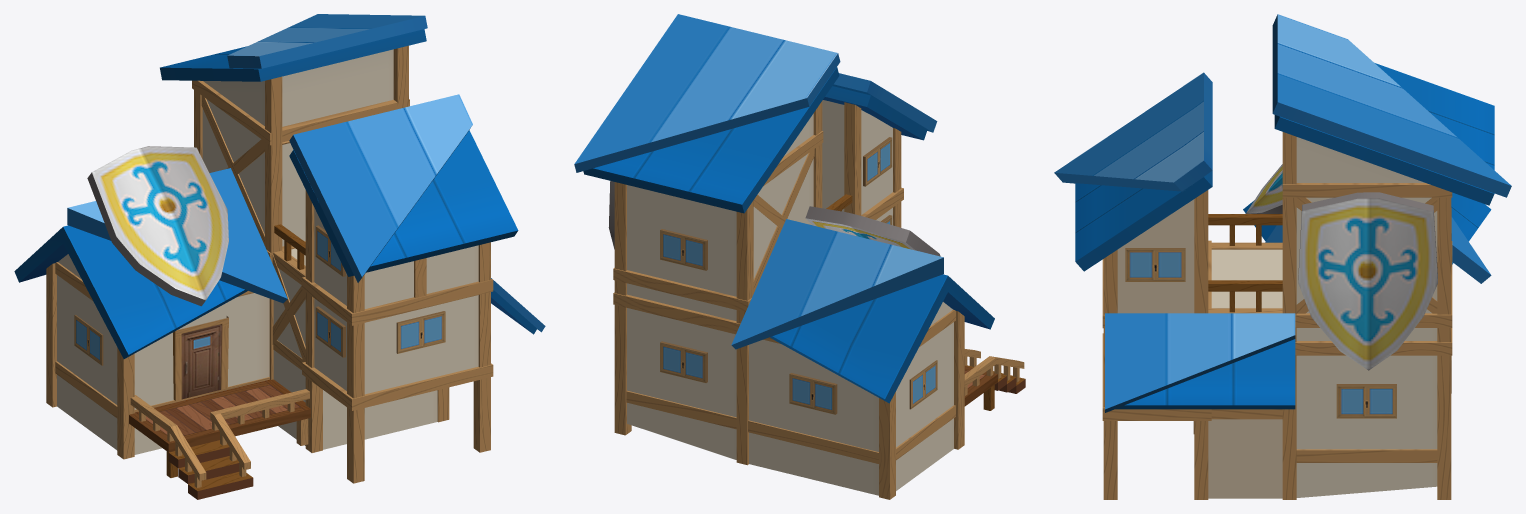
The model's file is building_Armor_lv5.FBX.
3 renders of one model, left to right at view 1: azimuth 30°, elevation 25°; view 2: azimuth 150°, elevation 25°; view 3: azimuth 270°, elevation 25°, orthographic. The views are drawn at different scales.
Visible parts, largest first — view 1: building_Armor_main_lv5, building_Armor_lv5; view 2: building_Armor_main_lv5, building_Armor_lv5; view 3: building_Armor_main_lv5, building_Armor_lv5.
Part boxes in pixels (bbox=[...]): building_Armor_main_lv5: bbox=[14, 14, 545, 454]; building_Armor_lv5: bbox=[46, 45, 493, 499]; building_Armor_main_lv5: bbox=[574, 14, 994, 495]; building_Armor_lv5: bbox=[608, 101, 1025, 499]; building_Armor_main_lv5: bbox=[1054, 14, 1511, 498]; building_Armor_lv5: bbox=[1102, 132, 1452, 499].
Bounding box in the file's own units: 650 × 639 × 654.
